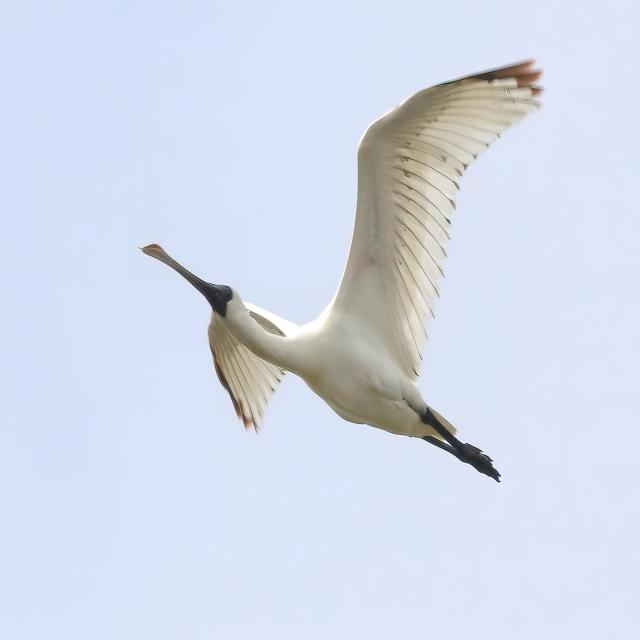Black-faced spoonbill: (142, 61, 541, 481)
